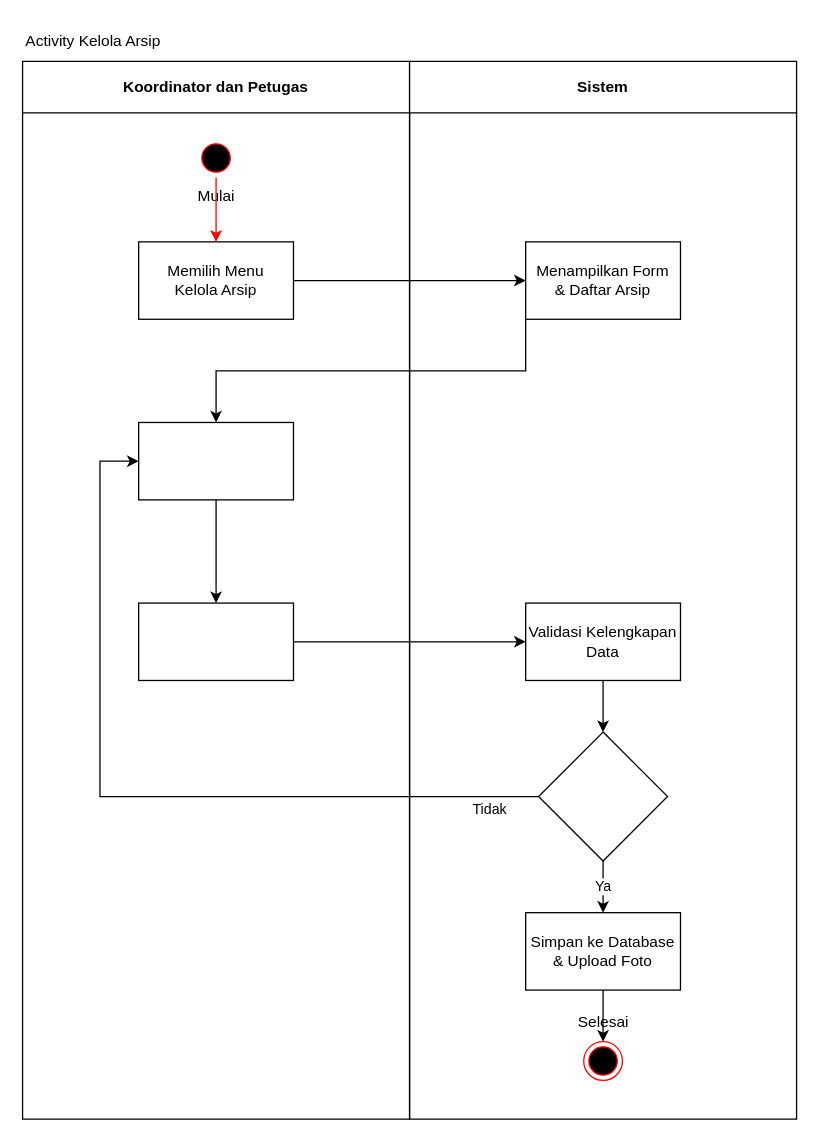
The diagram is 819 pixels wide and 1142 high, and some of its shapes have lost their labels. The shapes that lost their labels are listed below. From the top down, each one's centre as x and y in pixels, then its label:
At pixel 215 460: "Menginput Data".
At pixel 215 641: "Klik Tombol Simpan".
At pixel 602 796: "Proses Valid?".
